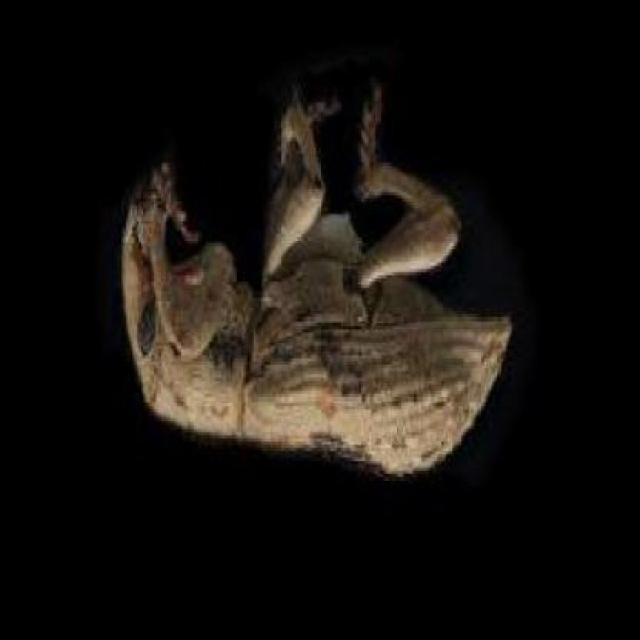rice-bug: (124, 75, 521, 471)
